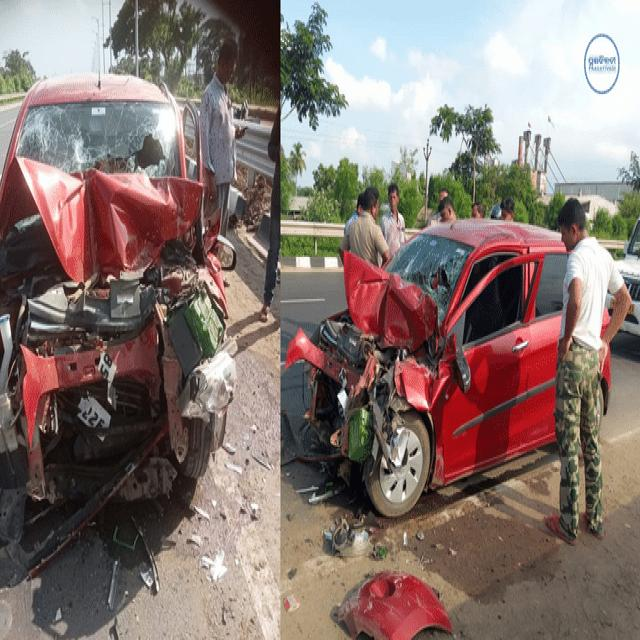accident: (0, 76, 236, 576), (285, 220, 566, 515)
car: (615, 218, 640, 335)
